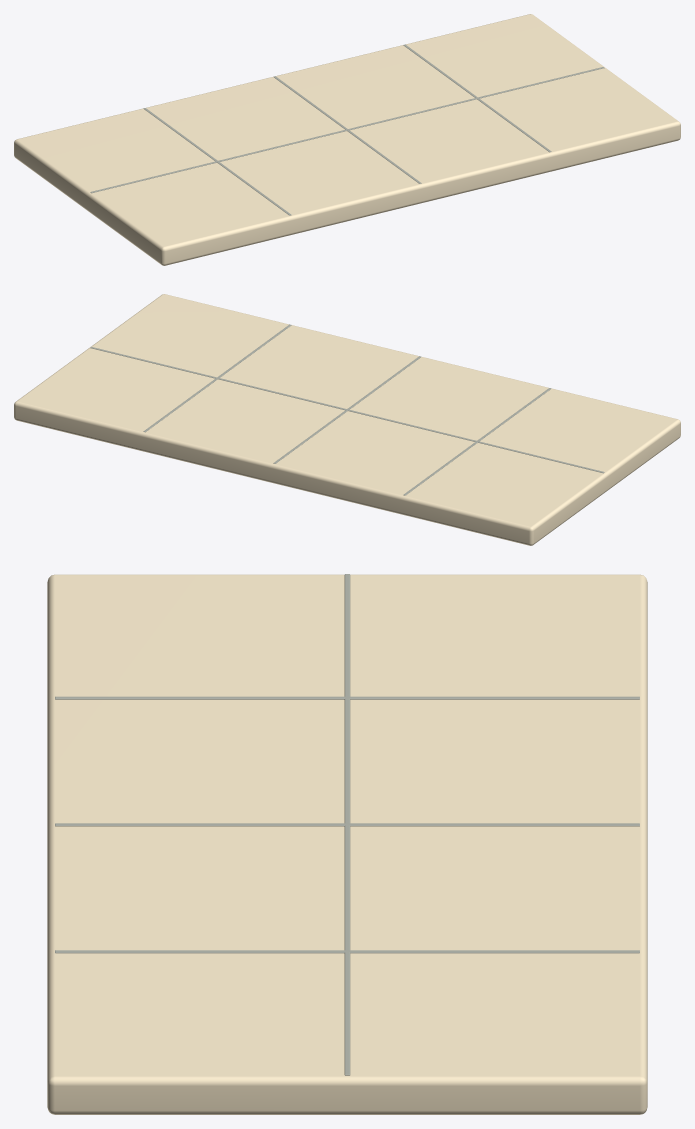
The model's file is Sidewalk_slab.fbx.
The picture shows the model from 3 angles, top to bottom: view 1: azimuth 30°, elevation 25°; view 2: azimuth 150°, elevation 25°; view 3: azimuth 270°, elevation 25°; orthographic projection. The views are drawn at different scales.
Visible parts, largest first — view 1: Town_Sidewalk_slab Pavement.001, Town_Sidewalk_slab Center seam.001, Town_Sidewalk_slab Paving seam.004, Town_Sidewalk_slab Paving seam.003, Town_Sidewalk_slab Paving seam.005; view 2: Town_Sidewalk_slab Pavement.001, Town_Sidewalk_slab Center seam.001, Town_Sidewalk_slab Paving seam.003, Town_Sidewalk_slab Paving seam.004, Town_Sidewalk_slab Paving seam.005; view 3: Town_Sidewalk_slab Pavement.001, Town_Sidewalk_slab Center seam.001, Town_Sidewalk_slab Paving seam.004, Town_Sidewalk_slab Paving seam.003, Town_Sidewalk_slab Paving seam.005.
Part boxes in pixels (bbox=[...]): Town_Sidewalk_slab Pavement.001: bbox=[14, 14, 680, 265]; Town_Sidewalk_slab Center seam.001: bbox=[90, 67, 604, 193]; Town_Sidewalk_slab Paving seam.004: bbox=[273, 76, 421, 183]; Town_Sidewalk_slab Paving seam.003: bbox=[143, 108, 291, 215]; Town_Sidewalk_slab Paving seam.005: bbox=[403, 44, 551, 152]; Town_Sidewalk_slab Pavement.001: bbox=[14, 294, 680, 545]; Town_Sidewalk_slab Center seam.001: bbox=[90, 347, 604, 473]; Town_Sidewalk_slab Paving seam.003: bbox=[403, 388, 551, 495]; Town_Sidewalk_slab Paving seam.004: bbox=[273, 356, 421, 463]; Town_Sidewalk_slab Paving seam.005: bbox=[143, 324, 291, 432]; Town_Sidewalk_slab Pavement.001: bbox=[47, 574, 647, 1114]; Town_Sidewalk_slab Center seam.001: bbox=[344, 574, 350, 1075]; Town_Sidewalk_slab Paving seam.004: bbox=[55, 823, 639, 826]; Town_Sidewalk_slab Paving seam.003: bbox=[55, 696, 639, 699]; Town_Sidewalk_slab Paving seam.005: bbox=[55, 950, 639, 953].
Bounding box in the file's own units: 400 × 14.5 × 200.
